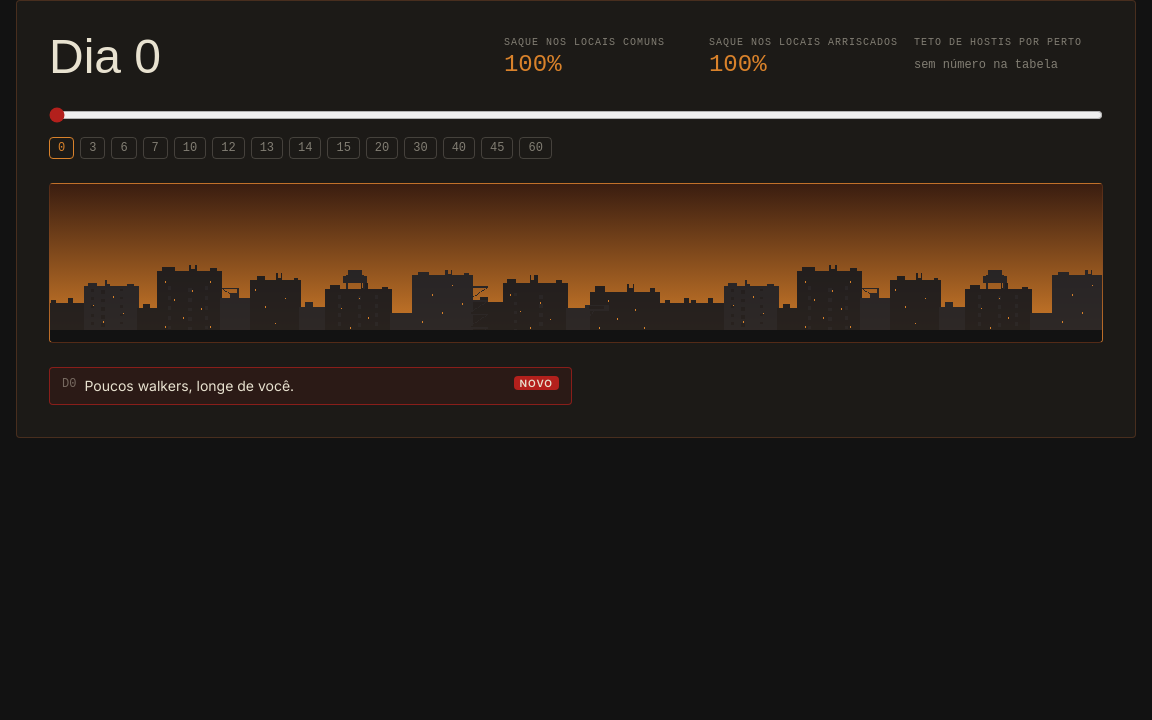
Test: DaySlider › marks what starts on that exact day
The width and height of the screenshot is (1152, 720).
Set the slider named "dia" to "14" at (299, 115), box [49,107,1103,123]
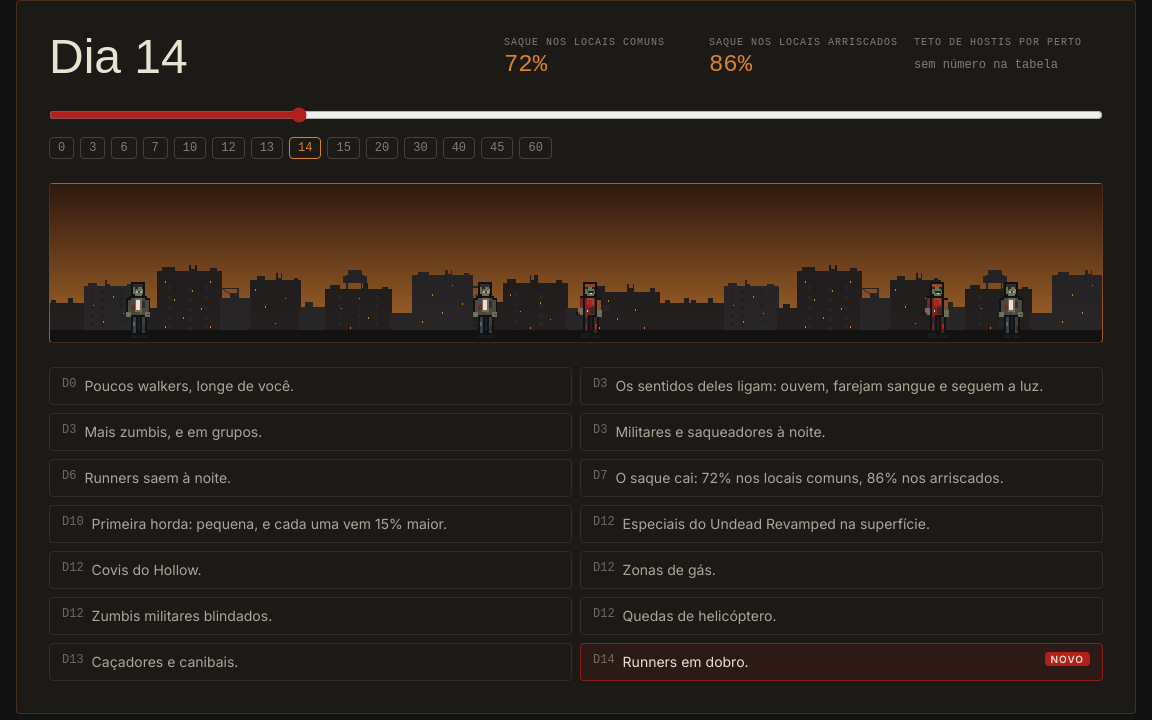
Expected: the list item "Runners em dobro." shows "Novo", [1050,653,1084,665]
